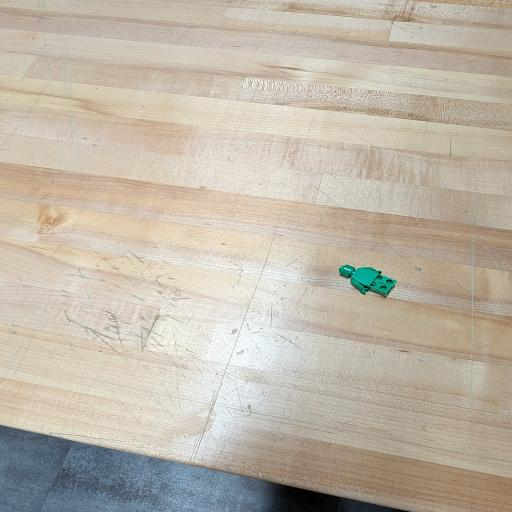Minifig: (339, 265, 396, 296)
